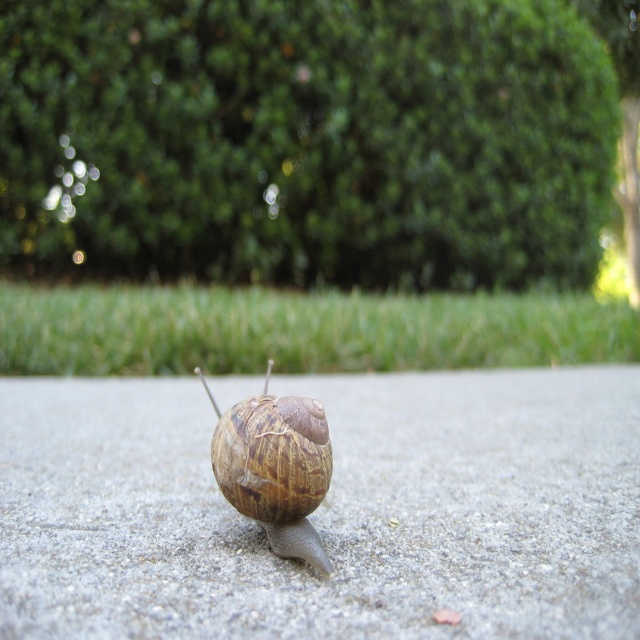Snail: (193, 359, 334, 579)
